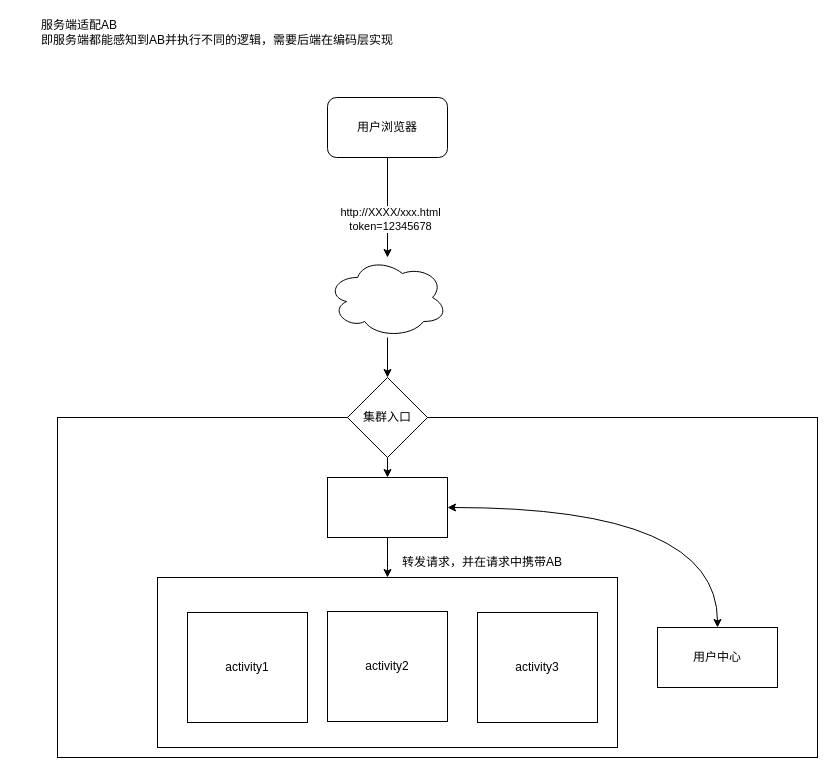
The diagram is 835 pixels wide and 775 high, and some of its shapes have lost their labels. The shapes that lost their labels are listed below. From the top down, each one's centre as x and y in pixels, then its label:
At point (387, 297): "公网".
At point (387, 507): "业务网关".
